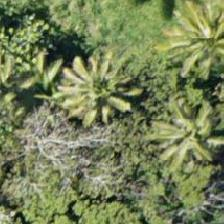coconut_tree: (53, 52, 143, 142), (147, 90, 223, 180), (161, 0, 223, 89), (0, 45, 46, 135)
